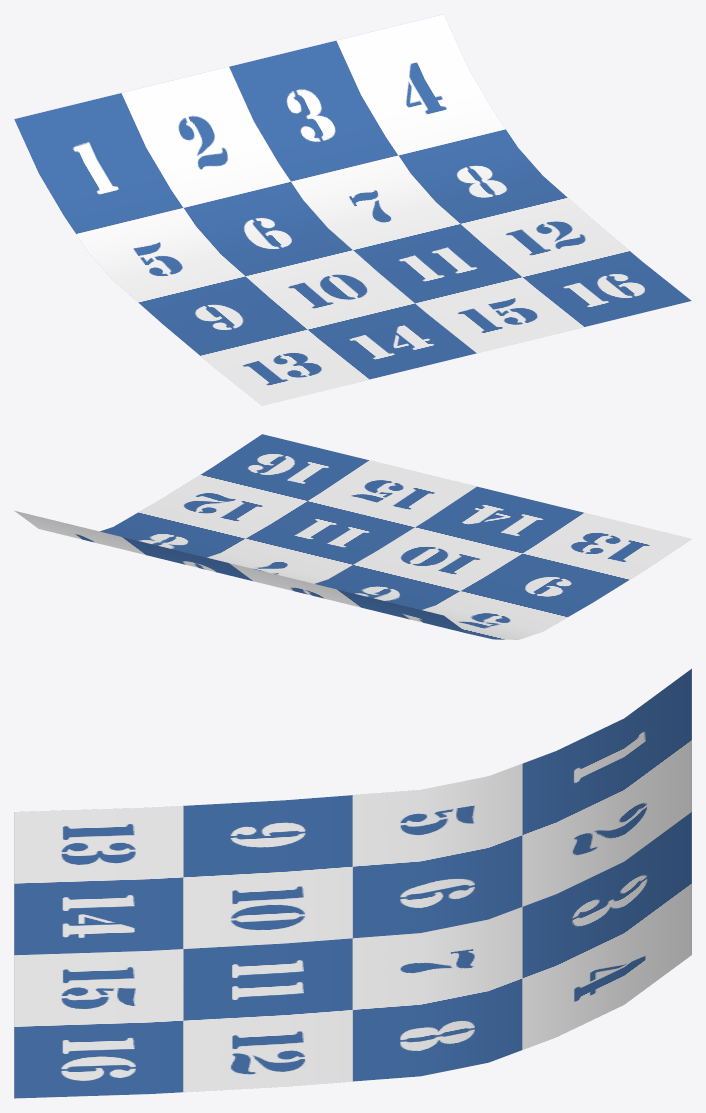
Rendered from Rui_Spl_Leaf01.fbx.
3 views of the same model, one above another, from view 1: azimuth 30°, elevation 25°; view 2: azimuth 150°, elevation 25°; view 3: azimuth 270°, elevation 25° (orthographic). The views are drawn at different scales.
Visible parts, largest first — view 1: SM_d_e_P1007_V00_C00_SplKrt_c030_Leaf_01; view 2: SM_d_e_P1007_V00_C00_SplKrt_c030_Leaf_01; view 3: SM_d_e_P1007_V00_C00_SplKrt_c030_Leaf_01.
Boxes of the visible parts, x1,y1,x2,y2 form: SM_d_e_P1007_V00_C00_SplKrt_c030_Leaf_01: (14, 14, 691, 405); SM_d_e_P1007_V00_C00_SplKrt_c030_Leaf_01: (14, 434, 691, 639); SM_d_e_P1007_V00_C00_SplKrt_c030_Leaf_01: (14, 668, 691, 1098).
Bounding box in the file's own units: 25 × 5.84 × 25.
1 material, 1 textured.
